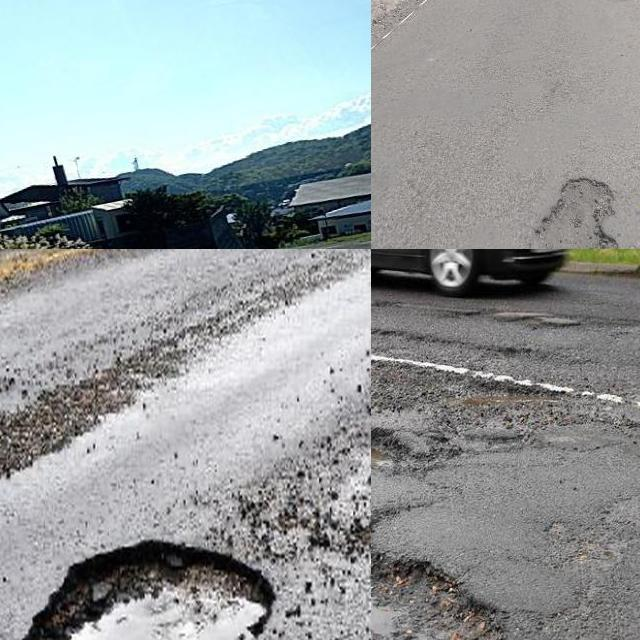Lubang: (32, 539, 282, 640), (536, 177, 614, 249), (371, 431, 408, 468)
